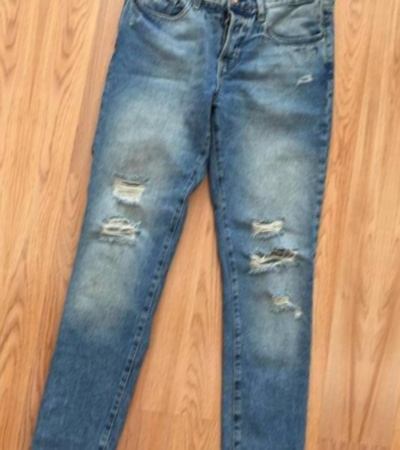Pants: (25, 0, 384, 450), (379, 30, 400, 450), (0, 443, 317, 450), (0, 0, 5, 426), (95, 0, 400, 0)
